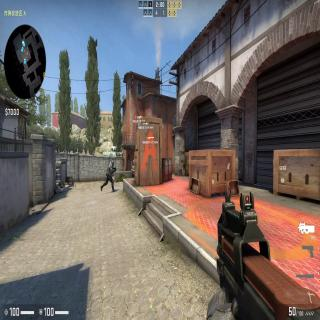CT-Body: (101, 159, 117, 192)
CT-Head: (110, 160, 114, 166)
